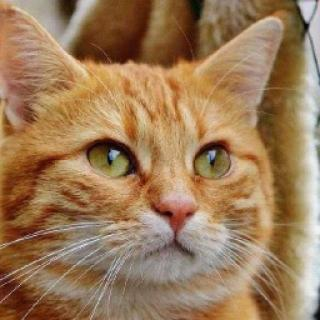cat: (2, 4, 287, 292)
nose: (144, 183, 198, 235)
